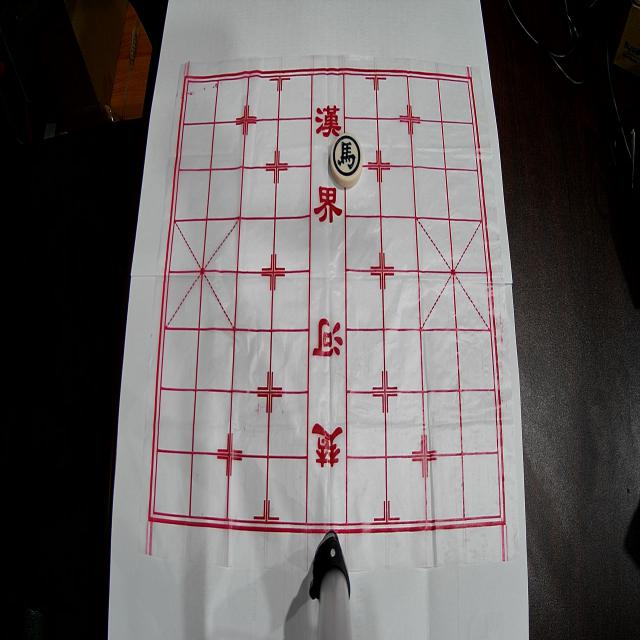black-horse: (330, 133, 363, 187)
